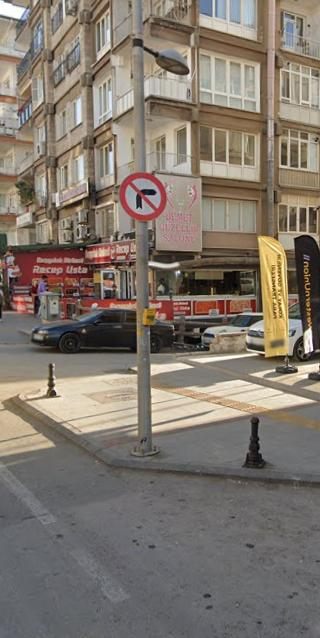rightturnsareforbidden: (116, 170, 168, 221)
